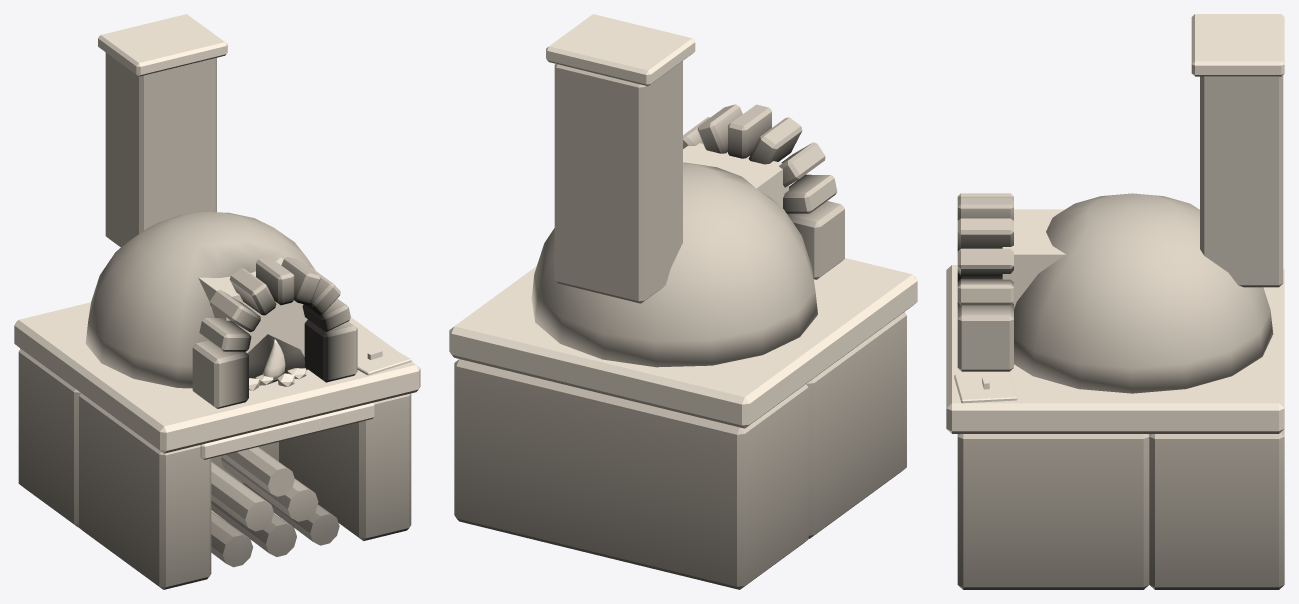
The model's file is SM_VKI_Prop_Oven_150.fbx.
3 renders of one model, left to right at view 1: azimuth 30°, elevation 25°; view 2: azimuth 150°, elevation 25°; view 3: azimuth 270°, elevation 25°, orthographic. The views are drawn at different scales.
Visible parts, largest first — view 1: SM_VKI_Prop_Oven_150.001; view 2: SM_VKI_Prop_Oven_150.001; view 3: SM_VKI_Prop_Oven_150.001.
Part boxes in pixels (x1,y1,x2,y2): SM_VKI_Prop_Oven_150.001: [14, 14, 420, 589]; SM_VKI_Prop_Oven_150.001: [449, 14, 917, 589]; SM_VKI_Prop_Oven_150.001: [946, 14, 1284, 589].
Size of the model in its own units: 1.2 by 1.9 by 1.2.
